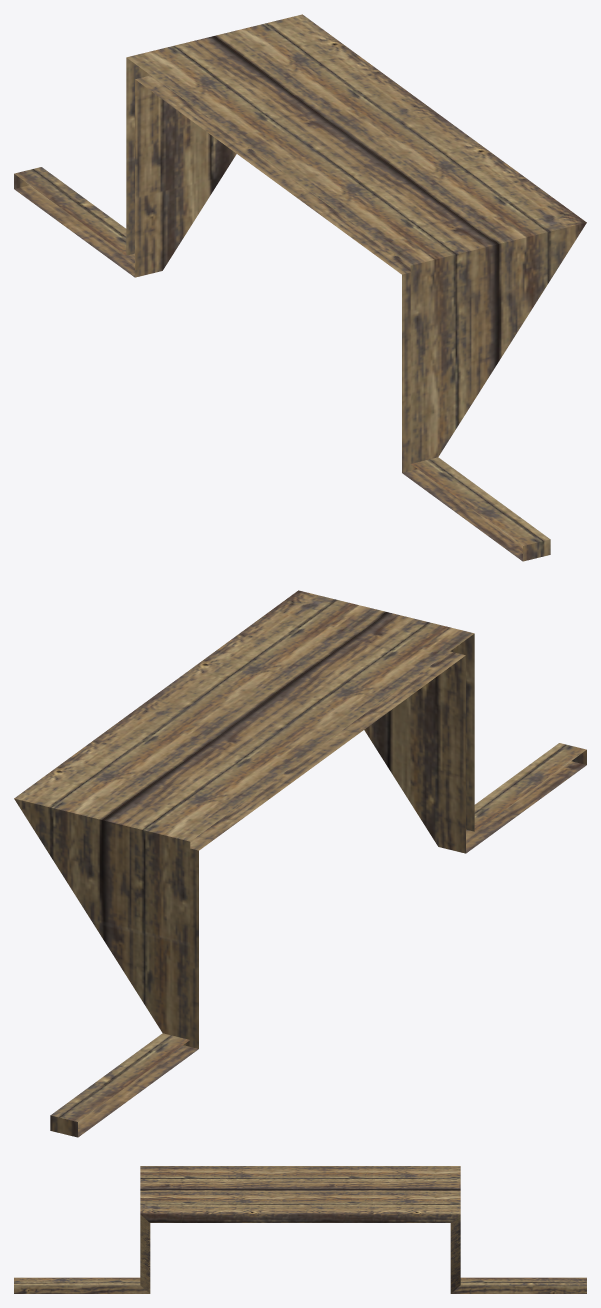
The model's file is blacksmith_platform2.fbx.
3 renders of one model, top to bottom at view 1: azimuth 30°, elevation 25°; view 2: azimuth 150°, elevation 25°; view 3: azimuth 270°, elevation 25°, orthographic. The views are drawn at different scales.
Visible parts, largest first — view 1: blacksmith_platform2; view 2: blacksmith_platform2; view 3: blacksmith_platform2.
Part boxes in pixels (x1,y1,x2,y2): blacksmith_platform2: (14,14,586,561); blacksmith_platform2: (14,590,586,1137); blacksmith_platform2: (14,1166,586,1293).
Bounding box in the file's own units: 245 × 284 × 1224.
